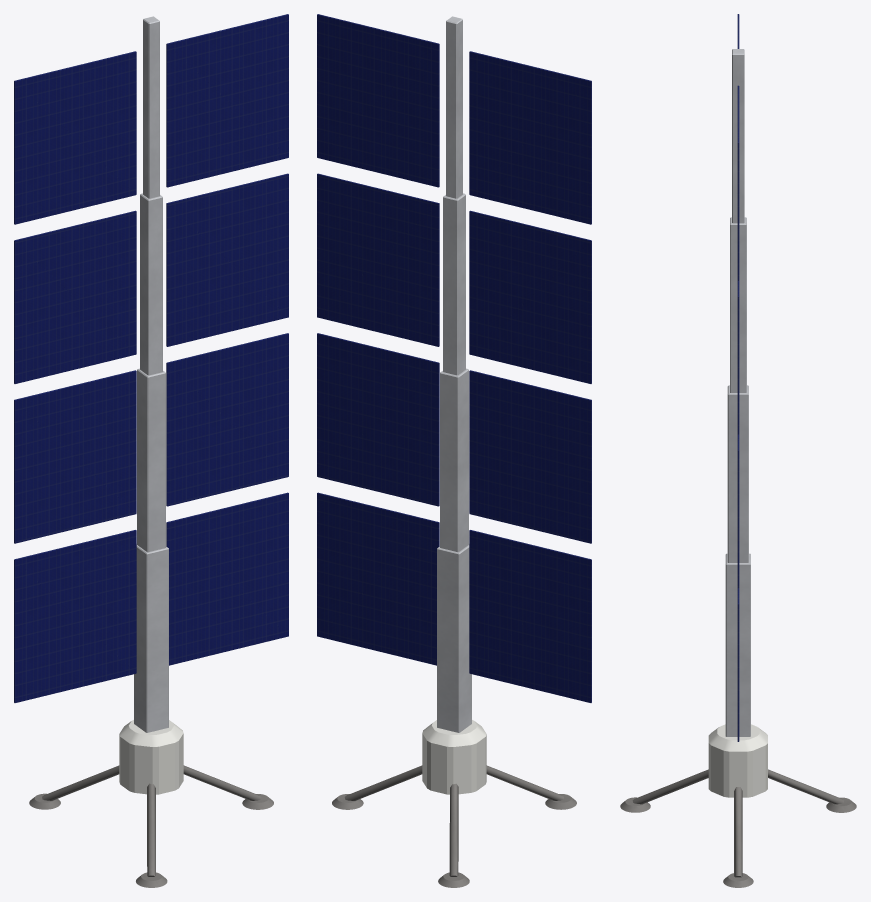
Rendered from ax_power_18_solar_tower_deployed.glb.
3 views of the same model, side by side, from view 1: azimuth 30°, elevation 25°; view 2: azimuth 150°, elevation 25°; view 3: azimuth 270°, elevation 25° (orthographic). The views are drawn at different scales.
Visible parts, largest first — view 1: panel_array_m, panel_array_p, mast, base, tripod_legs, footpads; view 2: panel_array_m, panel_array_p, mast, base, tripod_legs, footpads; view 3: mast, base, tripod_legs, panel_array_p, footpads.
Part boxes in pixels (box(x1,y1,x2,y2)): panel_array_m: box(14, 51, 136, 702); panel_array_p: box(166, 14, 288, 665); mast: box(134, 16, 168, 732); base: box(119, 720, 183, 794); tripod_legs: box(42, 765, 261, 876); footpads: box(29, 793, 273, 887); panel_array_m: box(469, 51, 591, 702); panel_array_p: box(317, 14, 439, 665); mast: box(437, 16, 471, 732); base: box(422, 720, 486, 794); tripod_legs: box(344, 765, 563, 876); footpads: box(332, 794, 576, 887); mast: box(725, 49, 750, 736); base: box(708, 724, 767, 797); tripod_legs: box(632, 769, 844, 877); panel_array_p: box(737, 85, 739, 741); footpads: box(620, 797, 856, 887).
Bounding box in the file's own units: 3.6 × 10.15 × 2.79.
4 materials, 3 textured.
